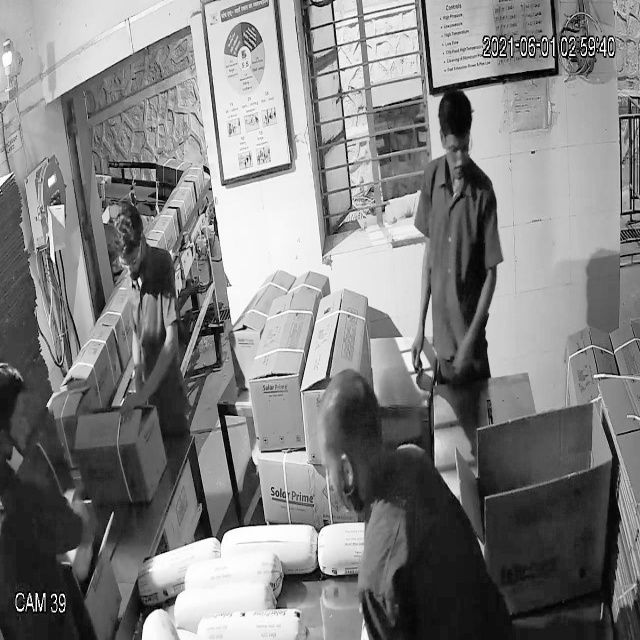Gafas: (118, 238, 147, 276)
